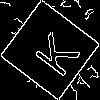K: (25, 25, 82, 79)
